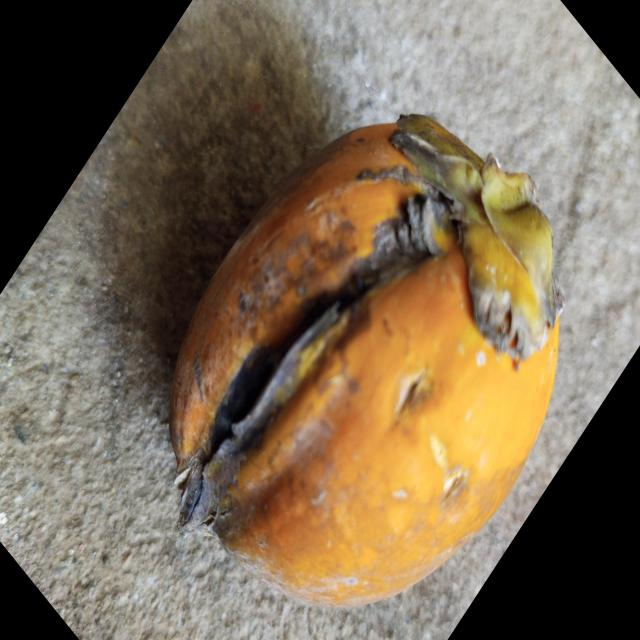damaged: (164, 113, 562, 613)
